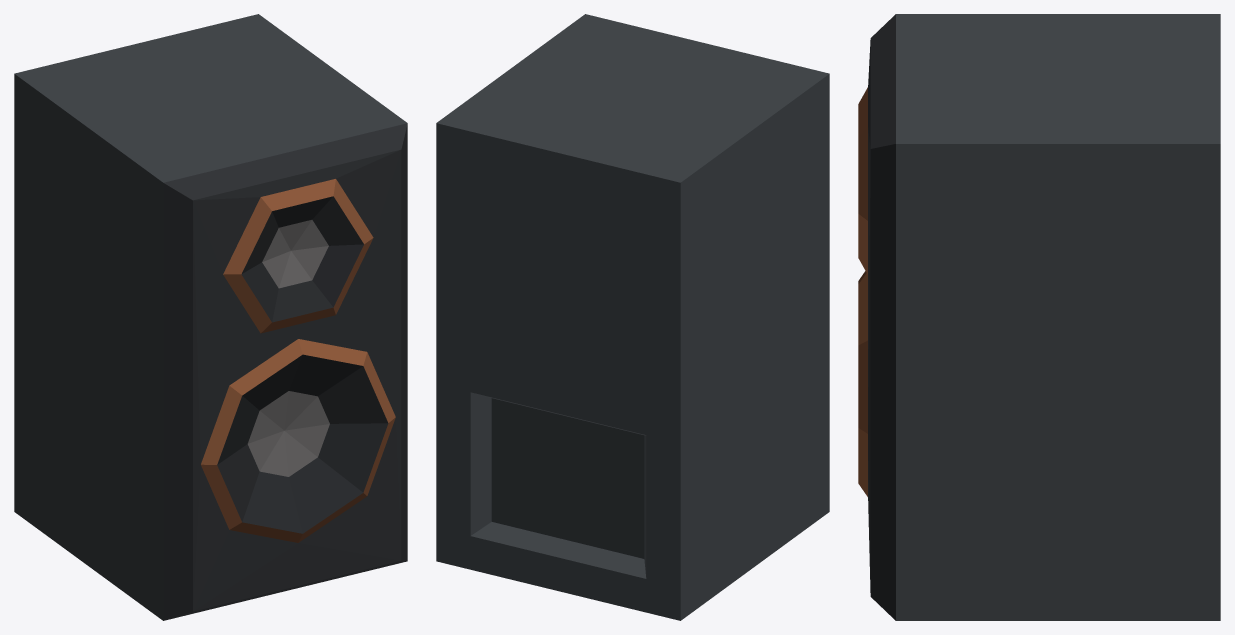
File: SM_Prop_Stereo_Speaker_Large_01.fbx
The picture shows the model from 3 angles, left to right: view 1: azimuth 30°, elevation 25°; view 2: azimuth 150°, elevation 25°; view 3: azimuth 270°, elevation 25°; orthographic projection. The views are drawn at different scales.
Visible parts, largest first — view 1: SM_Prop_Stereo_Speaker_Large_01; view 2: SM_Prop_Stereo_Speaker_Large_01; view 3: SM_Prop_Stereo_Speaker_Large_01.
Part boxes in pixels (bbox=[...]): SM_Prop_Stereo_Speaker_Large_01: bbox=[14, 14, 407, 620]; SM_Prop_Stereo_Speaker_Large_01: bbox=[436, 14, 829, 620]; SM_Prop_Stereo_Speaker_Large_01: bbox=[858, 14, 1220, 620].
Bounding box in the file's own units: 41.88 × 71.75 × 49.38.
